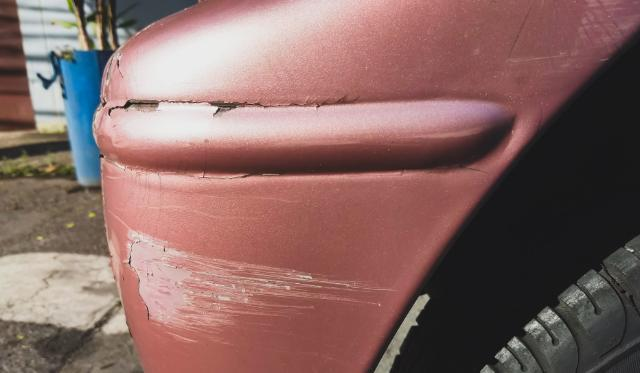Bumper: (89, 8, 406, 347)
